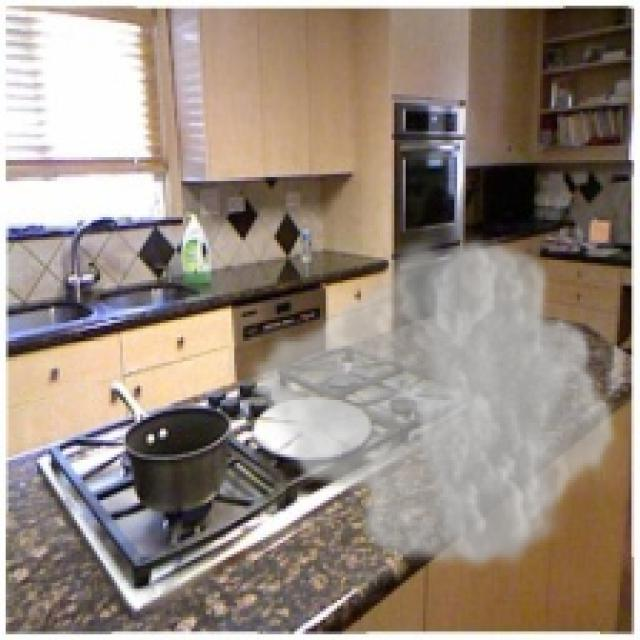smoke: (246, 229, 620, 577)
